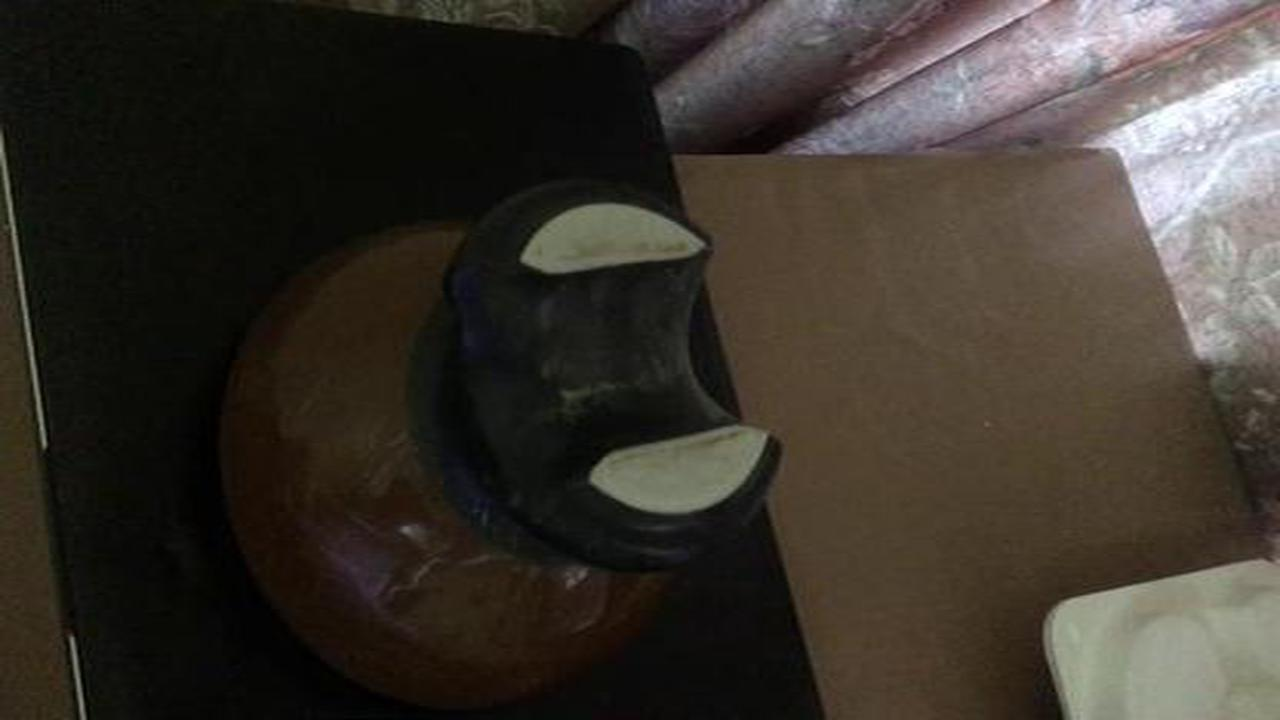insulator_pin: (197, 168, 807, 720)
